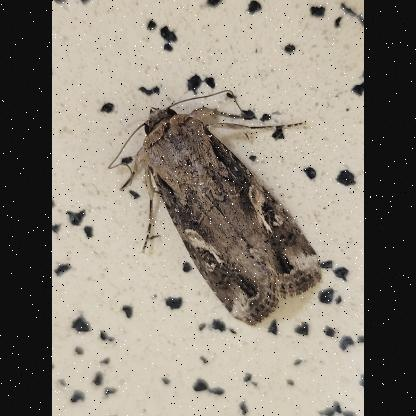Fall Armyworm Moth: (106, 87, 324, 329)
